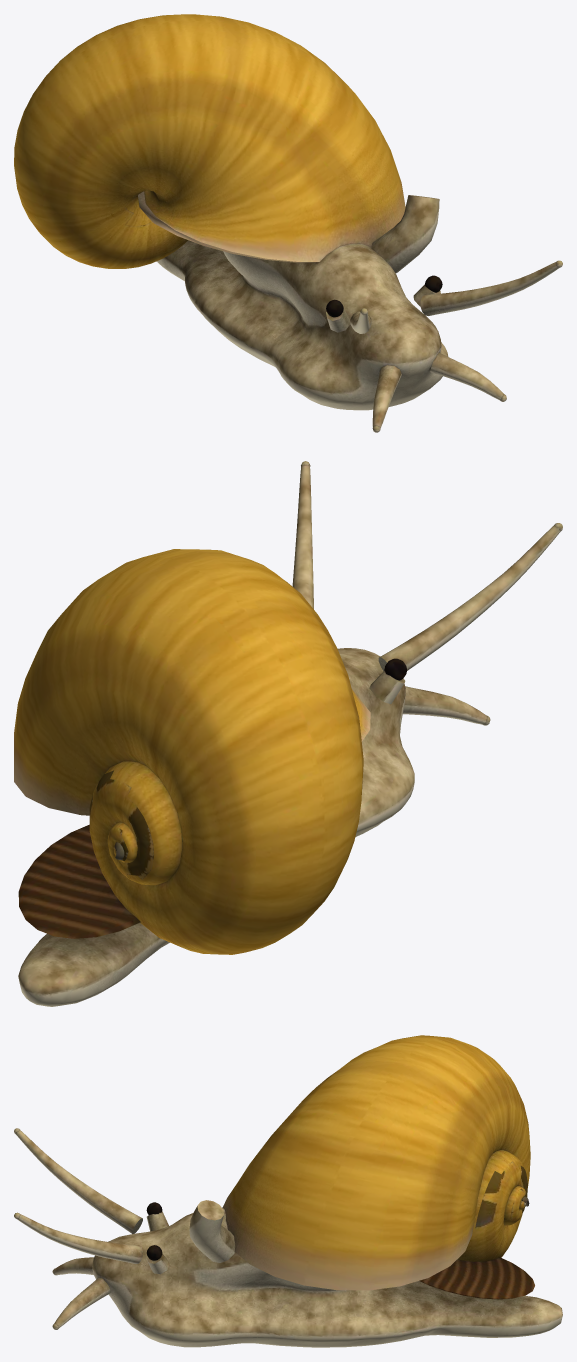
File: snail-mystery.glb
The picture shows the model from 3 angles, top to bottom: view 1: azimuth 30°, elevation 25°; view 2: azimuth 150°, elevation 25°; view 3: azimuth 270°, elevation 25°; orthographic projection. The views are drawn at different scales.
Visible parts, largest first — view 1: Shell, Body, TentL; view 2: Shell, Body, TentR, TentL; view 3: Shell, Body, TentR, TentL.
Part boxes in pixels (x1,y1,x2,y2): Shell: (14, 14, 405, 268); Body: (156, 195, 506, 432); TentL: (420, 260, 562, 315); Shell: (14, 549, 370, 954); Body: (18, 648, 490, 1006); TentR: (378, 523, 562, 670); TentL: (292, 461, 313, 609); Shell: (222, 1035, 530, 1290); Body: (52, 1200, 562, 1347); TentR: (14, 1128, 142, 1233); TentL: (14, 1212, 142, 1263).
Size of the model in its own units: 0.1259 by 0.1172 by 0.2245.
Materials: 1 (1 with a texture image).
